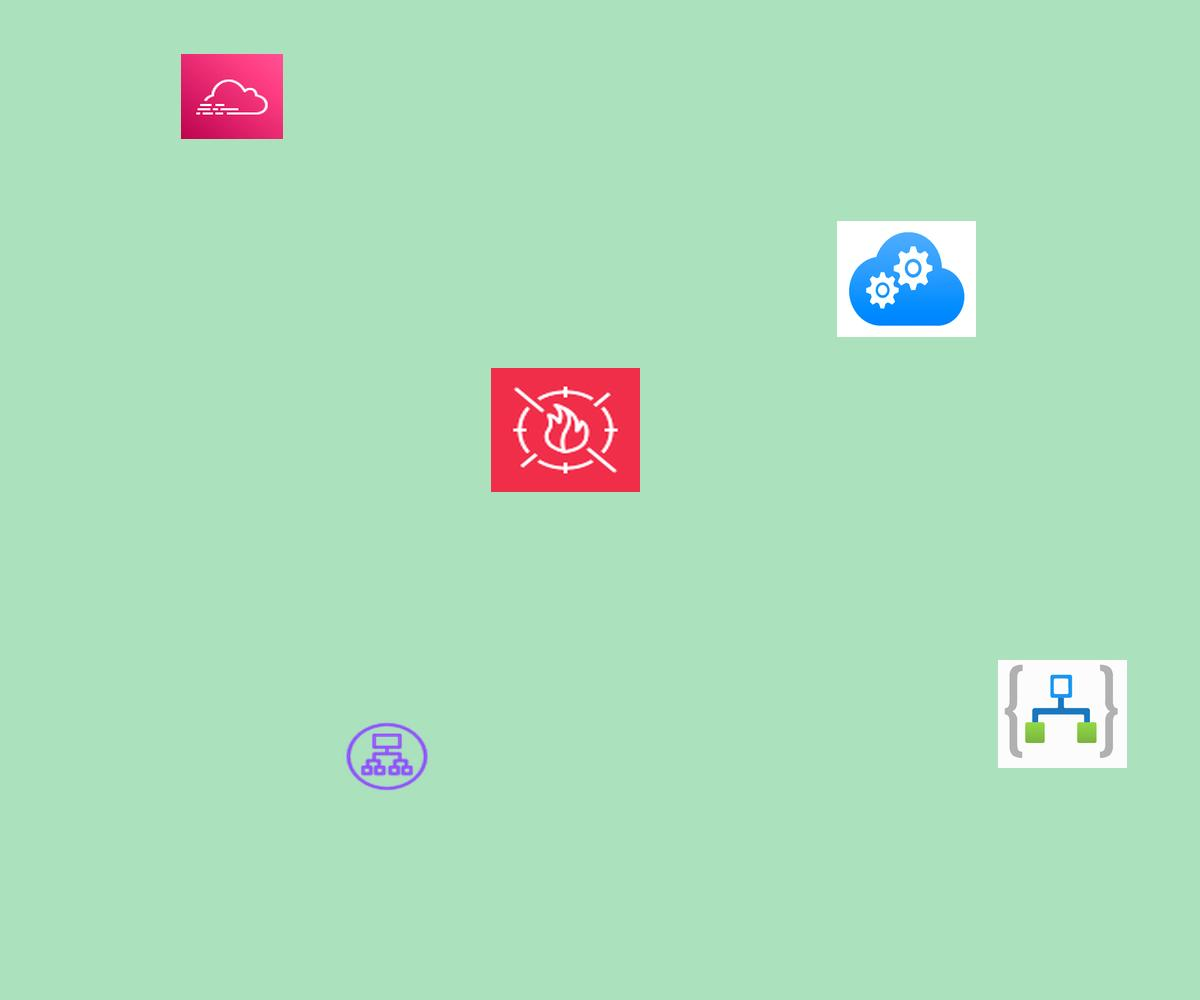AWS-CloudTrail: (181, 54, 283, 139)
AWS-Res_Elastic-Load-Balancing_Application-Load-Balancer: (343, 720, 431, 793)
AWS-WAF: (491, 368, 640, 492)
Azure_cloud_services: (837, 221, 976, 337)
Azure_integration-204-Logic-Apps: (998, 660, 1127, 768)
